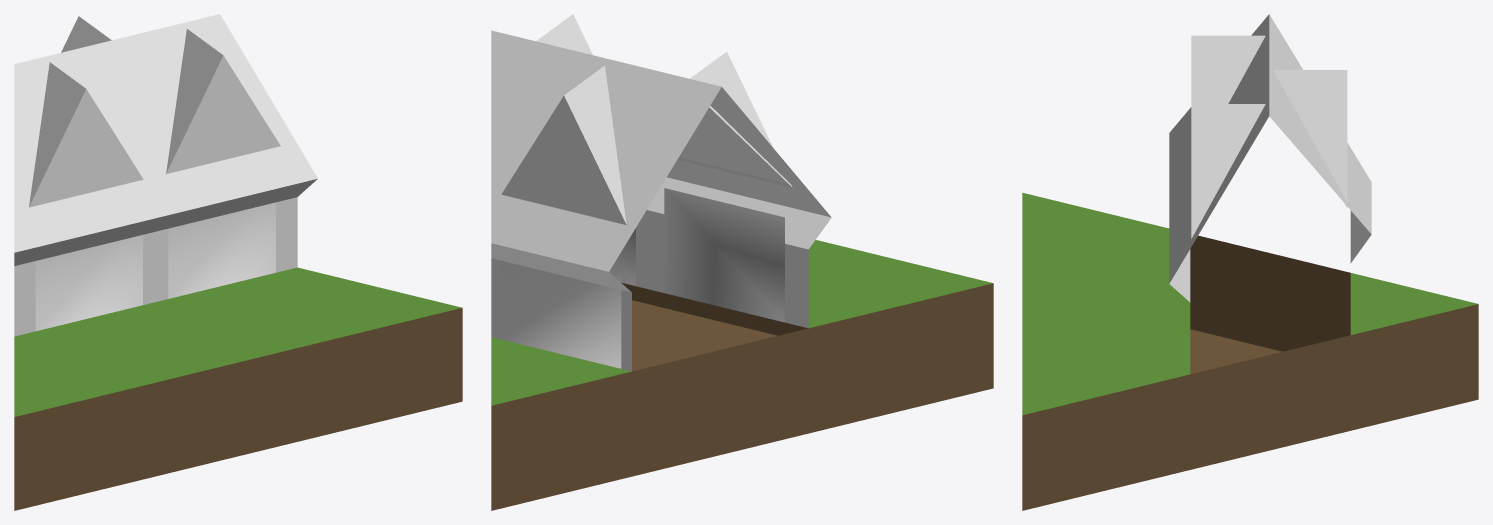
Rendered from Casa_Adossada_Simetrica_DE.fbx.
The picture shows the model from 3 angles, left to right: view 1: azimuth 30°, elevation 25°; view 2: azimuth 150°, elevation 25°; view 3: azimuth 270°, elevation 25°; orthographic projection. The views are drawn at different scales.
Visible parts, largest first — view 1: Casa_Adossada_Simetrica_DE, DetallTeulada.009, DetallTeulada.010, DetallParet.001, DetallParet.002, DetallTeulada.011; view 2: Casa_Adossada_Simetrica_DE, DetallParet.002, DetallTeulada.011, DetallParet.003, DetallTeulada.009, DetallTeulada.010, DetallParet.001; view 3: Casa_Adossada_Simetrica_DE, DetallTeulada.010, DetallTeulada.011, DetallTeulada.009.
Boxes of the visible parts, x1,y1,x2,y2 form: Casa_Adossada_Simetrica_DE: [14, 14, 462, 510]; DetallTeulada.009: [29, 62, 143, 207]; DetallTeulada.010: [166, 29, 280, 173]; DetallParet.001: [168, 202, 275, 298]; DetallParet.002: [35, 235, 142, 331]; DetallTeulada.011: [61, 16, 111, 52]; Casa_Adossada_Simetrica_DE: [491, 30, 993, 510]; DetallParet.002: [664, 188, 784, 322]; DetallTeulada.011: [501, 65, 626, 224]; DetallParet.003: [500, 260, 621, 368]; DetallTeulada.009: [677, 51, 792, 187]; DetallTeulada.010: [536, 14, 592, 54]; DetallParet.001: [615, 228, 635, 285]; Casa_Adossada_Simetrica_DE: [1022, 14, 1478, 510]; DetallTeulada.010: [1191, 104, 1265, 238]; DetallTeulada.011: [1273, 70, 1347, 207]; DetallTeulada.009: [1191, 35, 1265, 103].
Bounding box in the file's own units: 100 × 70 × 86.6.
